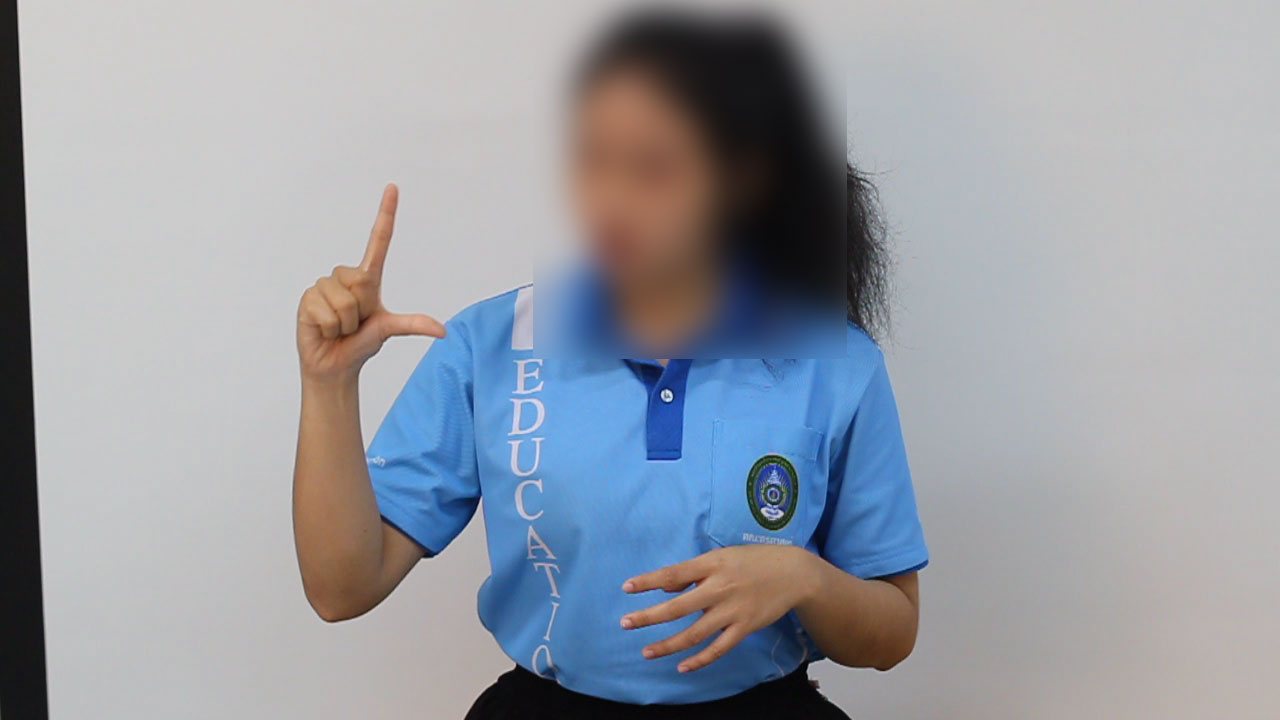lor: (275, 187, 465, 382)
